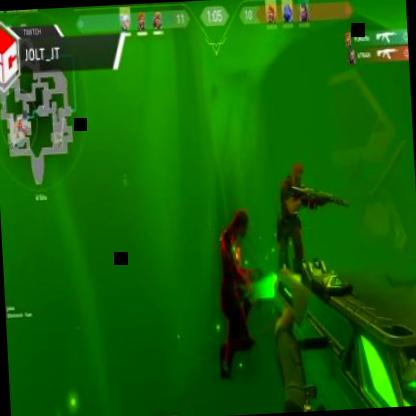enemy: (272, 162, 332, 309), (212, 209, 257, 378)
enemy_head: (232, 210, 250, 240), (292, 162, 304, 188)
